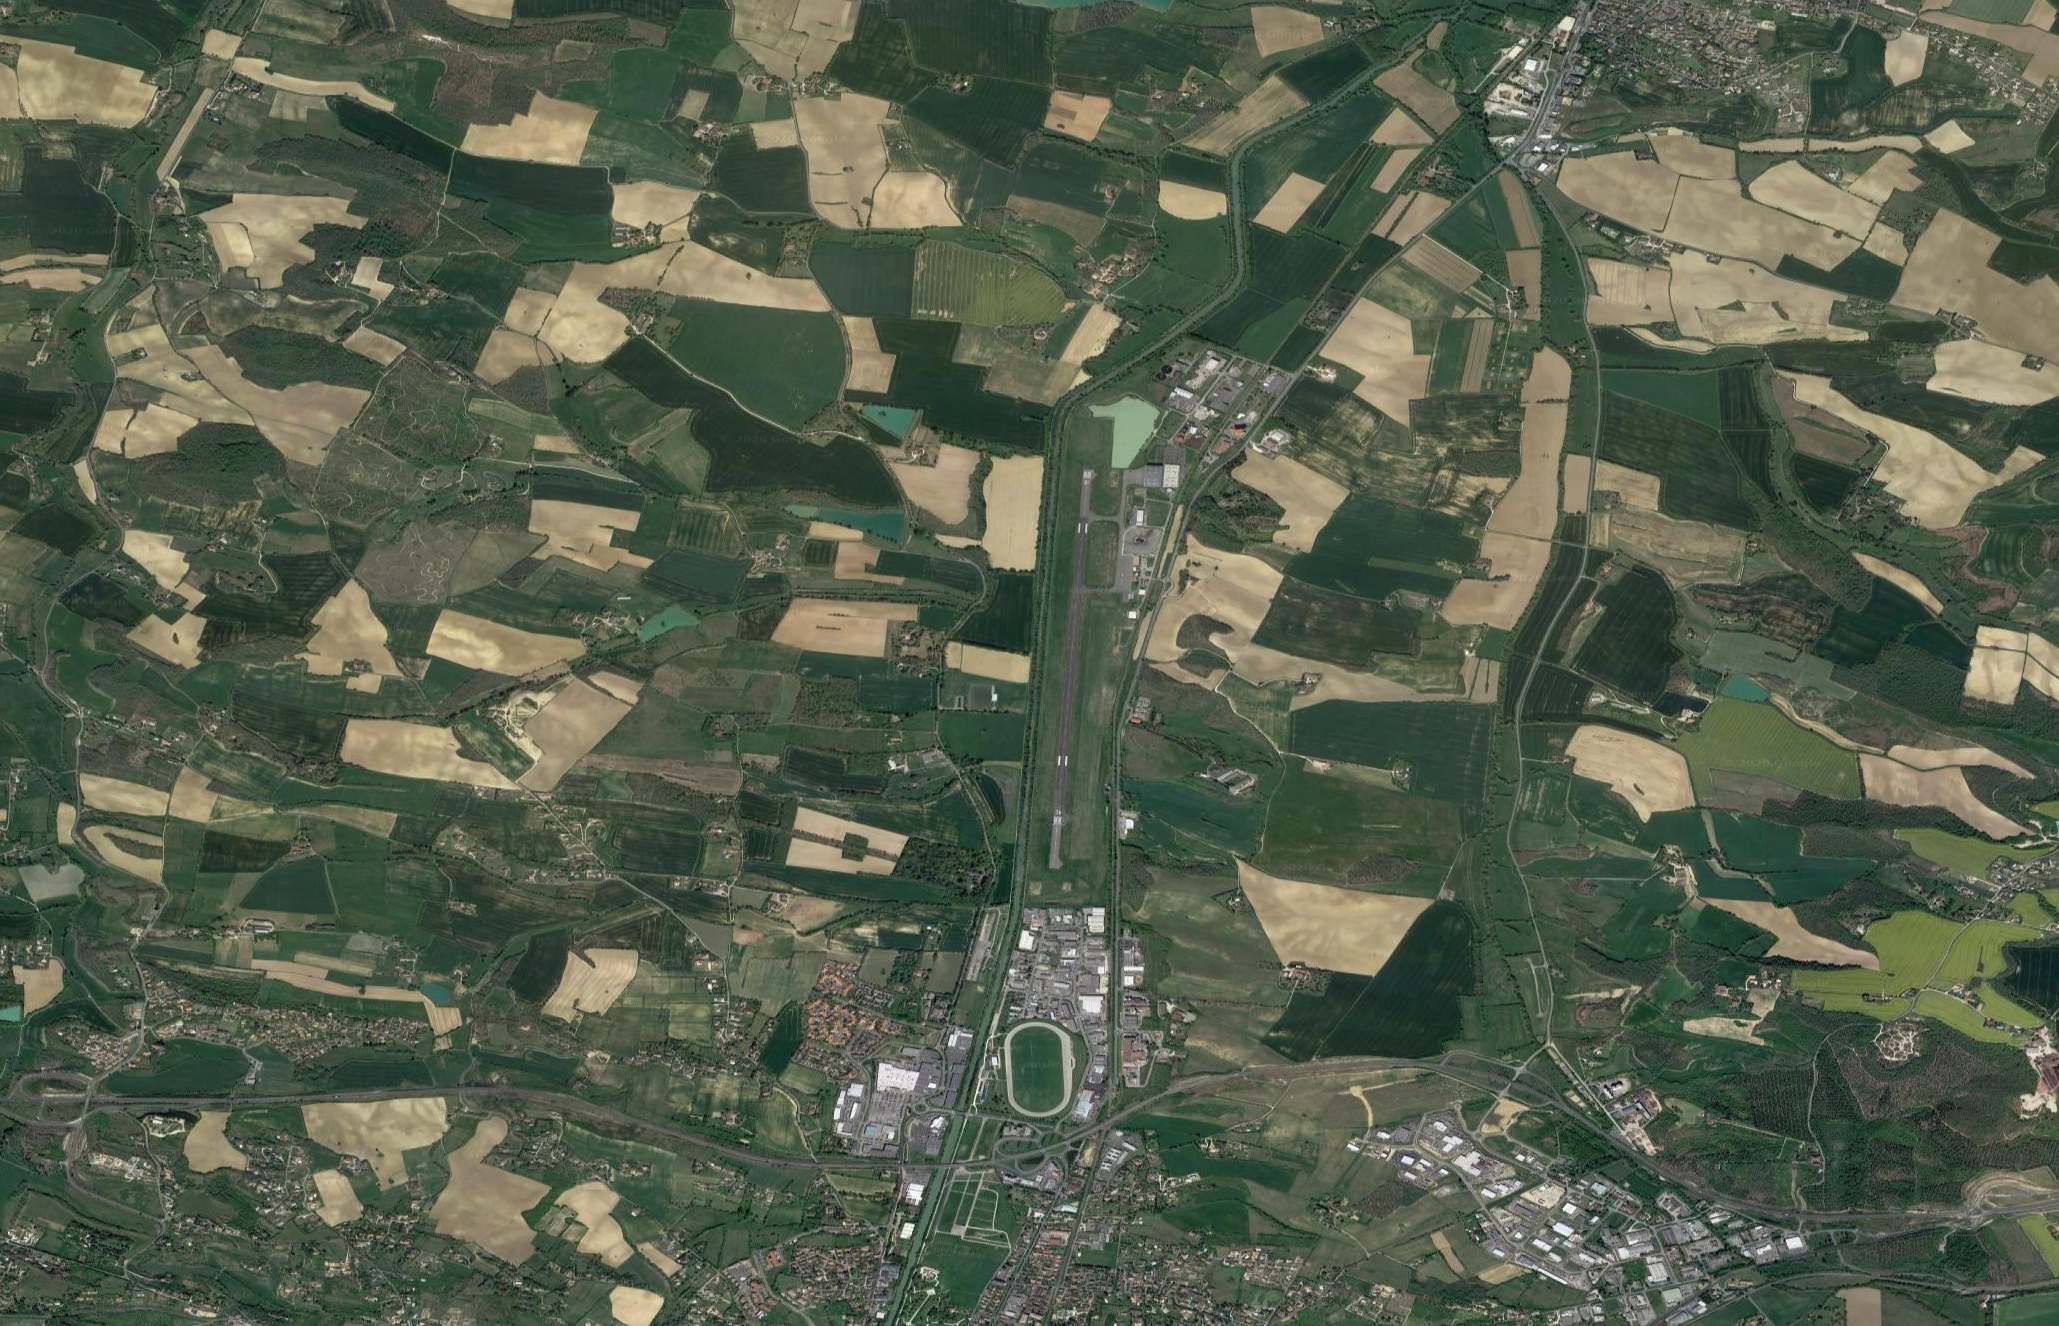airport: (1045, 459, 1189, 873)
